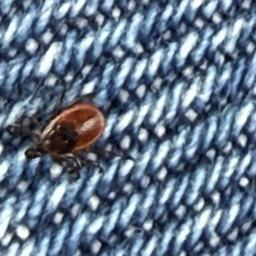Ixodes scapularis: (11, 97, 136, 176)
